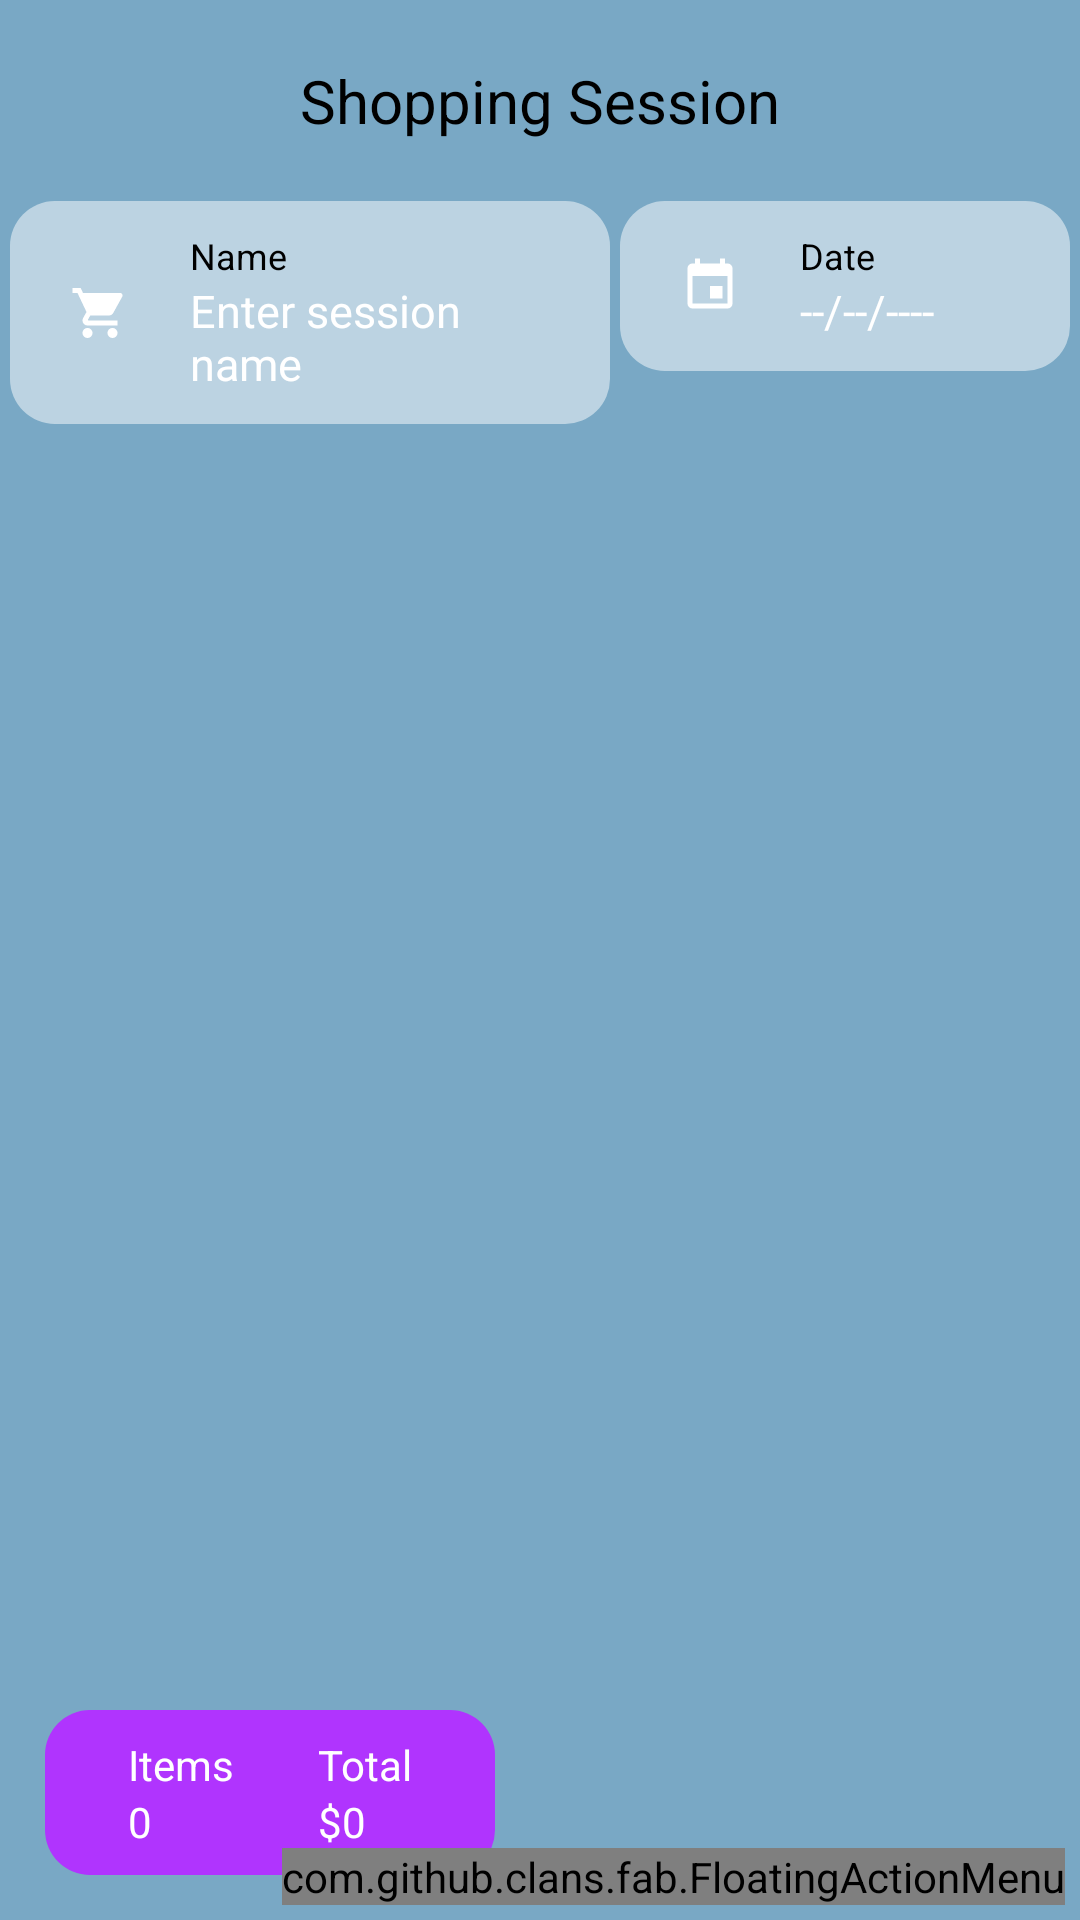

Screen size 1080w x 1920h. Icon name, then its box in pixels as (x1, y1, x2, y2):
calendar: (687, 258, 733, 309)
cart: (72, 288, 123, 338)
